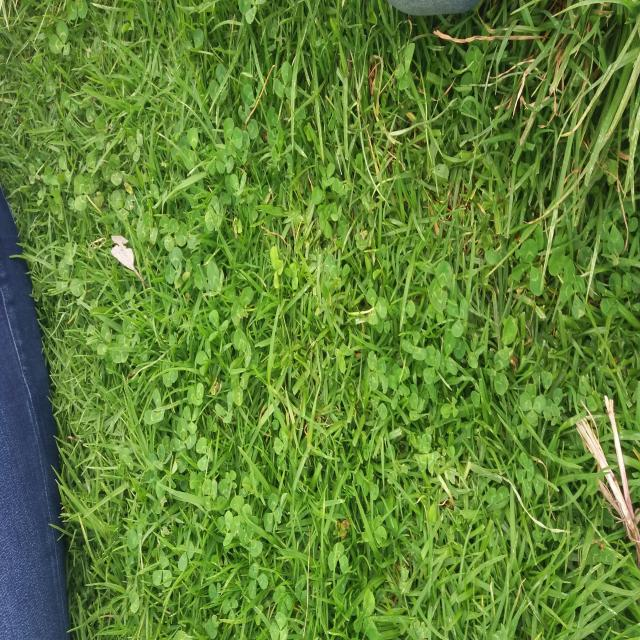Four Leaf Clover: (414, 434, 440, 474), (367, 351, 388, 394), (205, 195, 224, 231)
